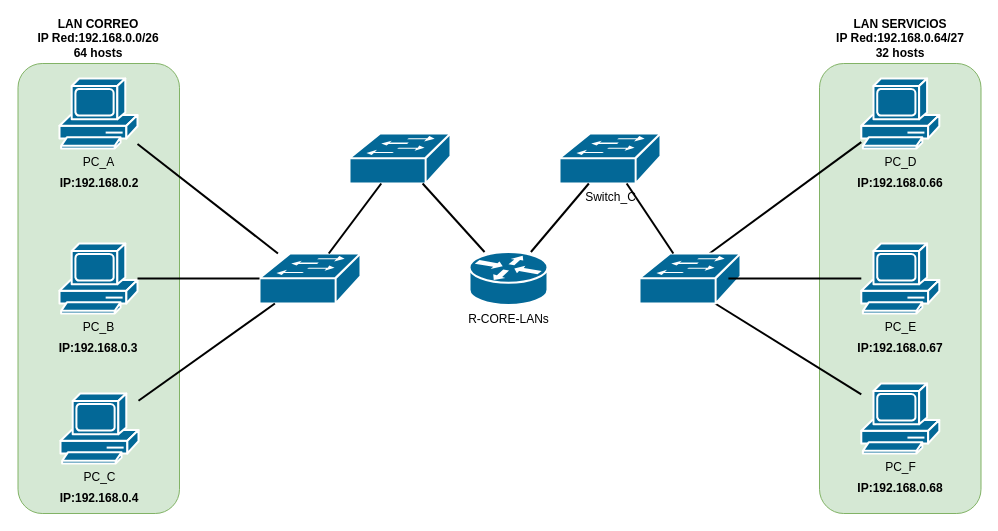
This 998x531 diagram has some shape labels left out. Each missing label, with the centre of its shape:
"Switch_A" goes at point (309, 278).
"Switch_B" goes at point (399, 158).
"Switch_D" goes at point (689, 278).
